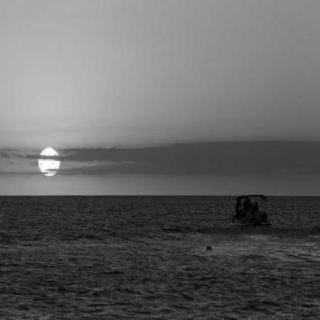other: (10, 124, 92, 188)
